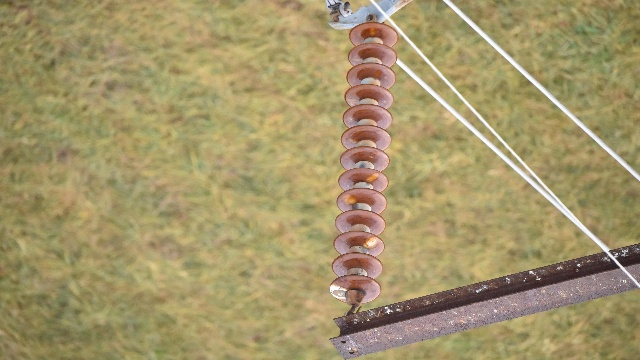insulator_unspecified: (329, 22, 398, 303)
pollution_flashover_local: (328, 283, 350, 303), (363, 233, 382, 252), (367, 172, 381, 184), (342, 194, 357, 204)
